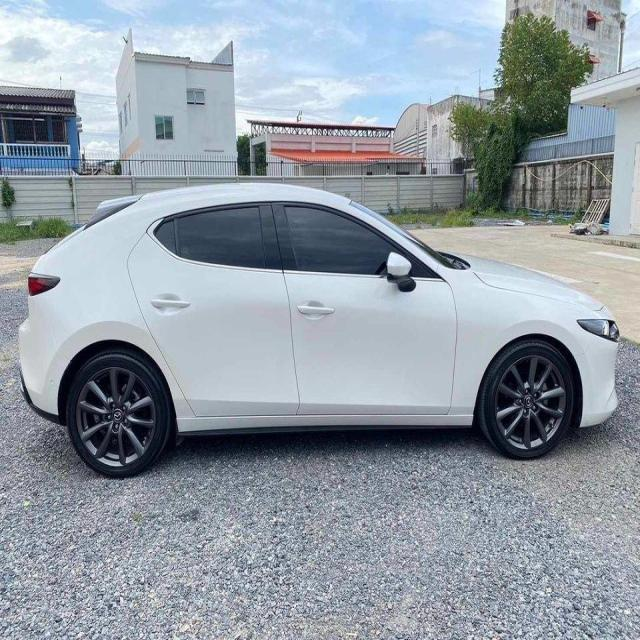Hatchback: (18, 183, 622, 481)
